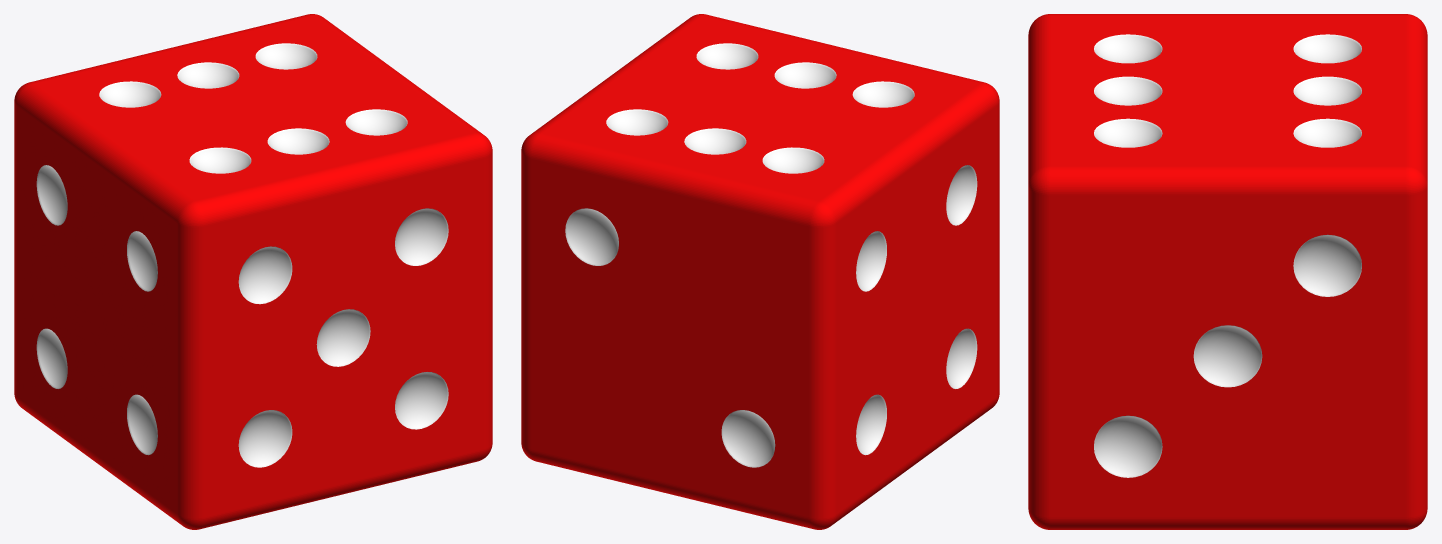
File: Dice.fbx
The picture shows the model from 3 angles, left to right: view 1: azimuth 30°, elevation 25°; view 2: azimuth 150°, elevation 25°; view 3: azimuth 270°, elevation 25°; orthographic projection. The views are drawn at different scales.
Visible parts, largest first — view 1: Cube; view 2: Cube; view 3: Cube.
Boxes of the visible parts, <box> form: Cube: <box>14,14,492,529</box>; Cube: <box>521,14,999,529</box>; Cube: <box>1028,14,1427,529</box>.
Size of the model in its own units: 200 by 200 by 200.
